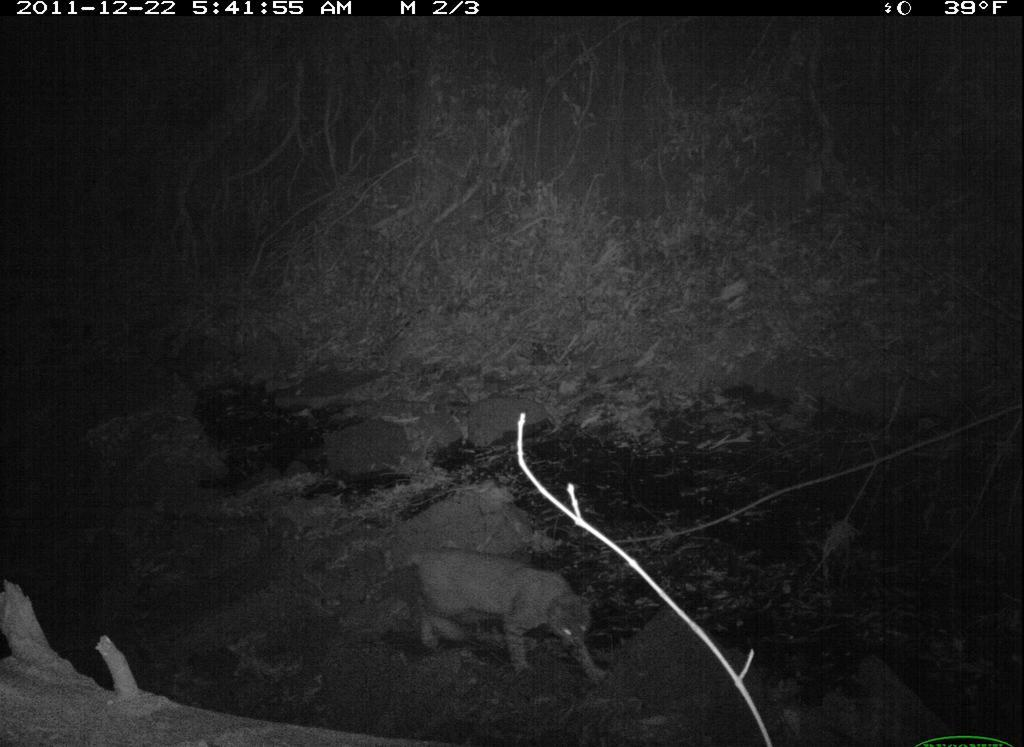bobcat: (392, 534, 609, 688)
